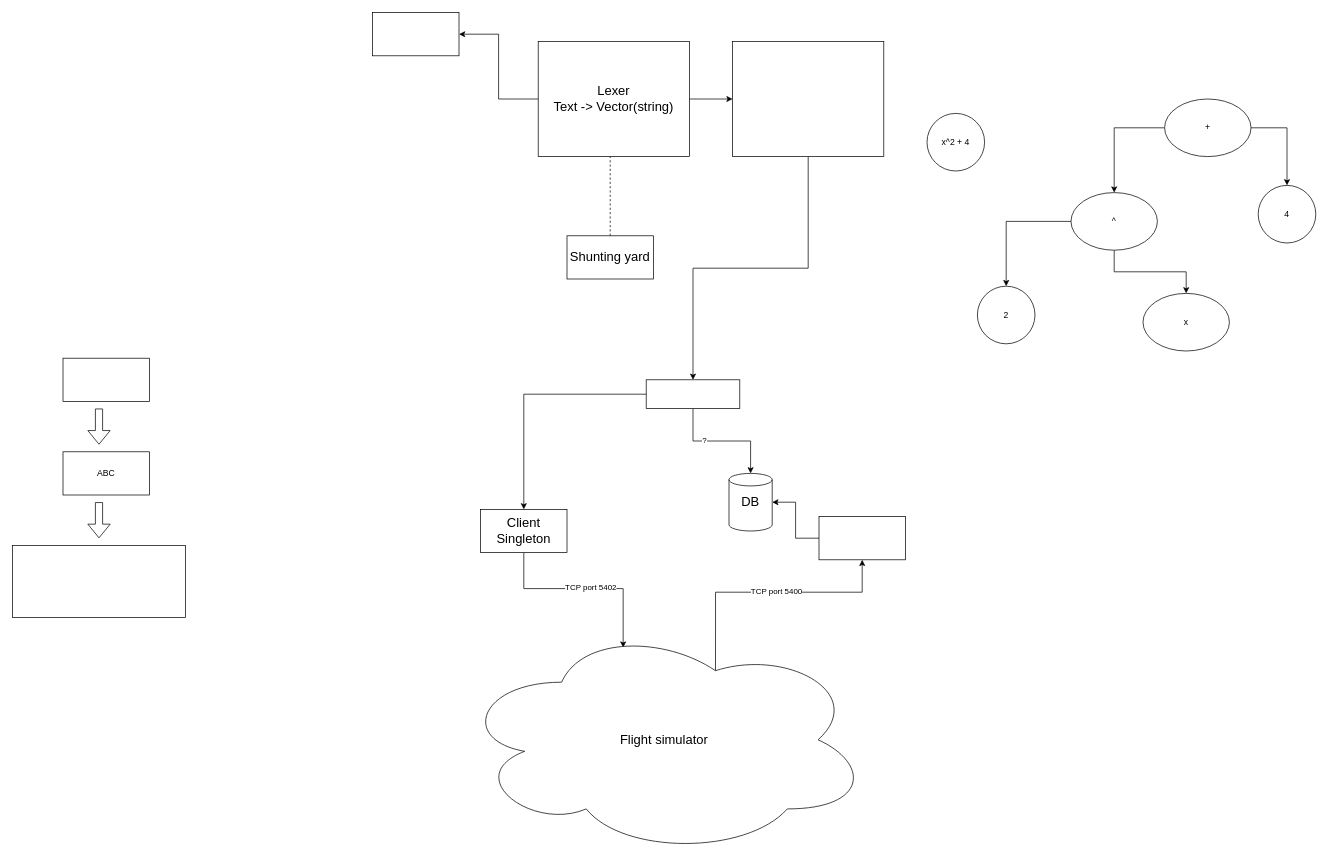
The diagram is 1328 pixels wide and 868 high, and some of its shapes have lost their labels. The centre of each missing label's shape, as x and y in pixels:
"Command" goes at [692,394].
"Command ABC" goes at [105,379].
"Connect: text_params: port, ip do_command(): Client.getInstance()->connect()" goes at [98,581].
"Parser" goes at [808,99].
"Server Singleton" goes at [861,538].
"Text input" goes at [415,34].
